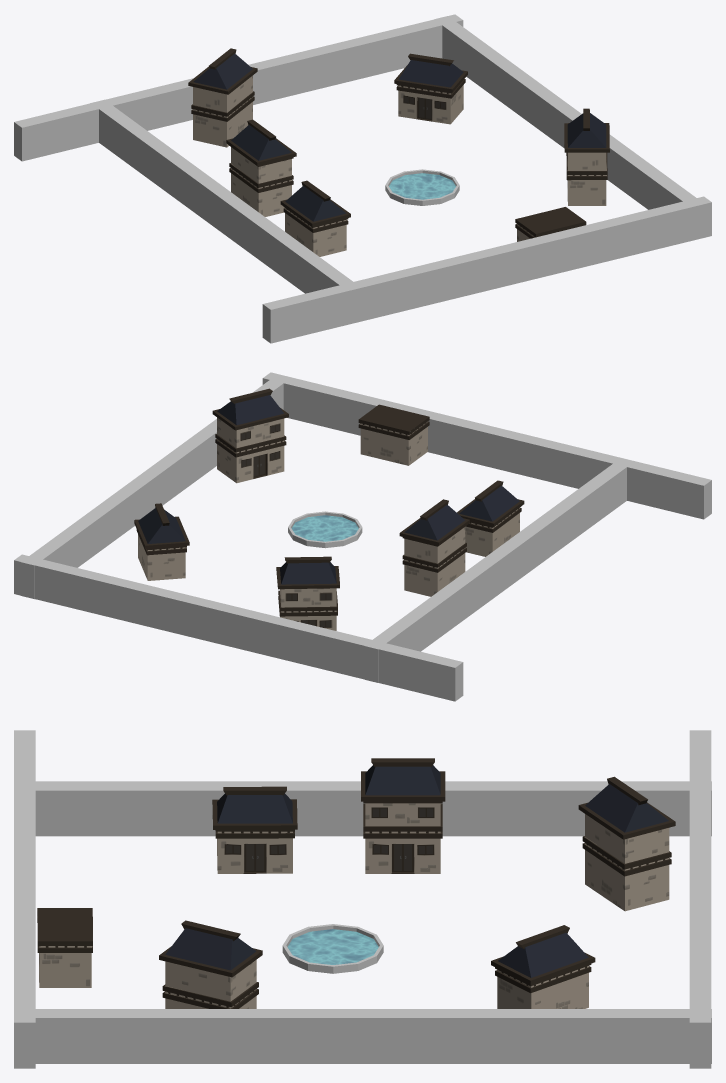
The model's file is Small_Town.fbx.
The picture shows the model from 3 angles, top to bottom: view 1: azimuth 30°, elevation 25°; view 2: azimuth 150°, elevation 25°; view 3: azimuth 270°, elevation 25°; orthographic projection. The views are drawn at different scales.
Visible parts, largest first — view 1: Town_1; view 2: Town_1; view 3: Town_1.
Part boxes in pixels (x1,y1,x2,y2): Town_1: (14, 14, 711, 343); Town_1: (14, 372, 711, 701); Town_1: (14, 730, 711, 1068).
Bounding box in the file's own units: 30.27 × 5.06 × 30.53.
